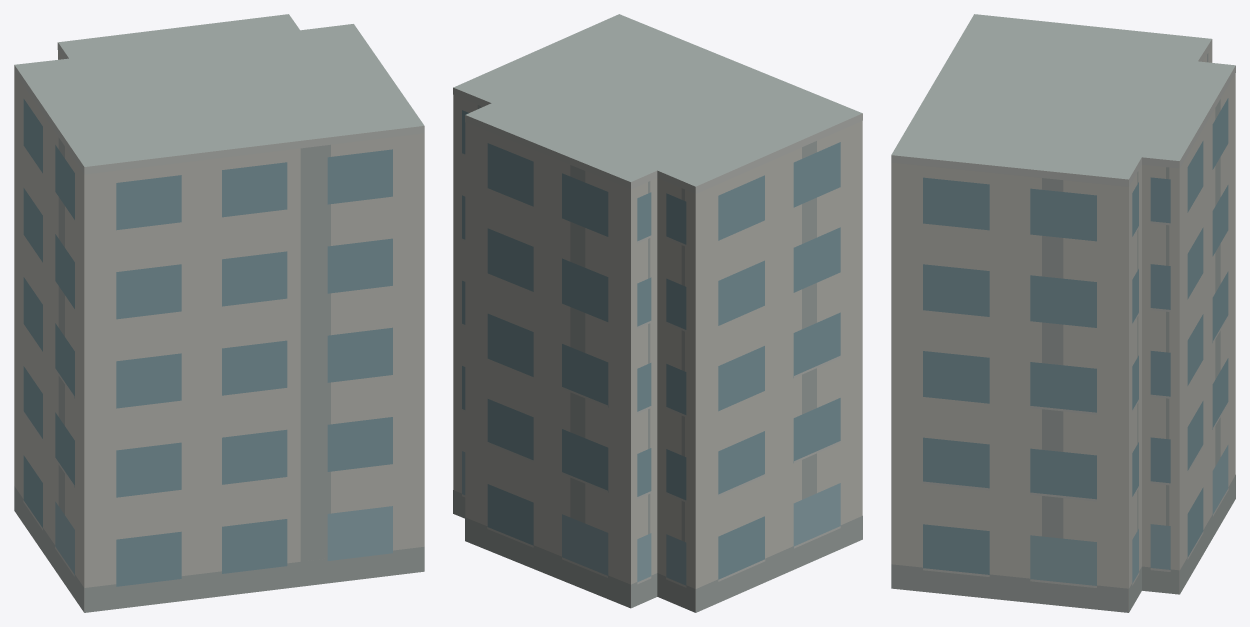
File: survey-upis-32532256.glb
3 views of the same model, side by side, from view 1: azimuth 30°, elevation 25°; view 2: azimuth 150°, elevation 25°; view 3: azimuth 270°, elevation 25° (orthographic). The views are drawn at different scales.
Visible parts, largest first — view 1: survey-upis-32532256.tmp; view 2: survey-upis-32532256.tmp; view 3: survey-upis-32532256.tmp.
Boxes of the visible parts, x1,y1,x2,y2 form: survey-upis-32532256.tmp: (14, 14, 424, 612); survey-upis-32532256.tmp: (453, 14, 862, 612); survey-upis-32532256.tmp: (891, 14, 1235, 612).
Size of the model in its own units: 11.72 by 14.3 by 10.32.
